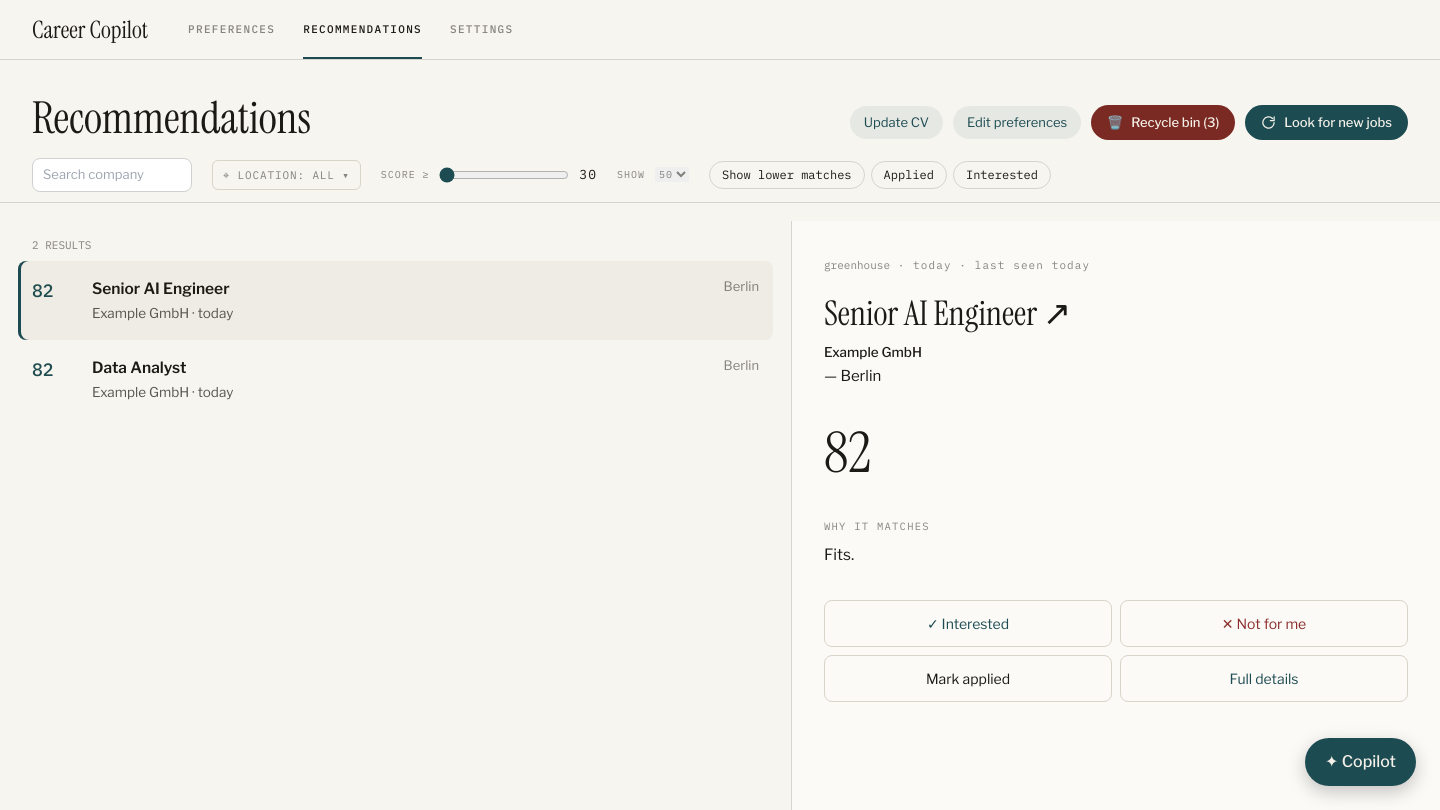
Test case: a dismissed row flying to the bin › removes the row at once under reduced motion
This screenshot has width=1440, height=810.
What coordinates should you click on to do the following:
click the button with aria-label "Not relevant: Senior AI Engineer"
I would click on:
 (1264, 623)
Its box is [1120,600,1408,647].
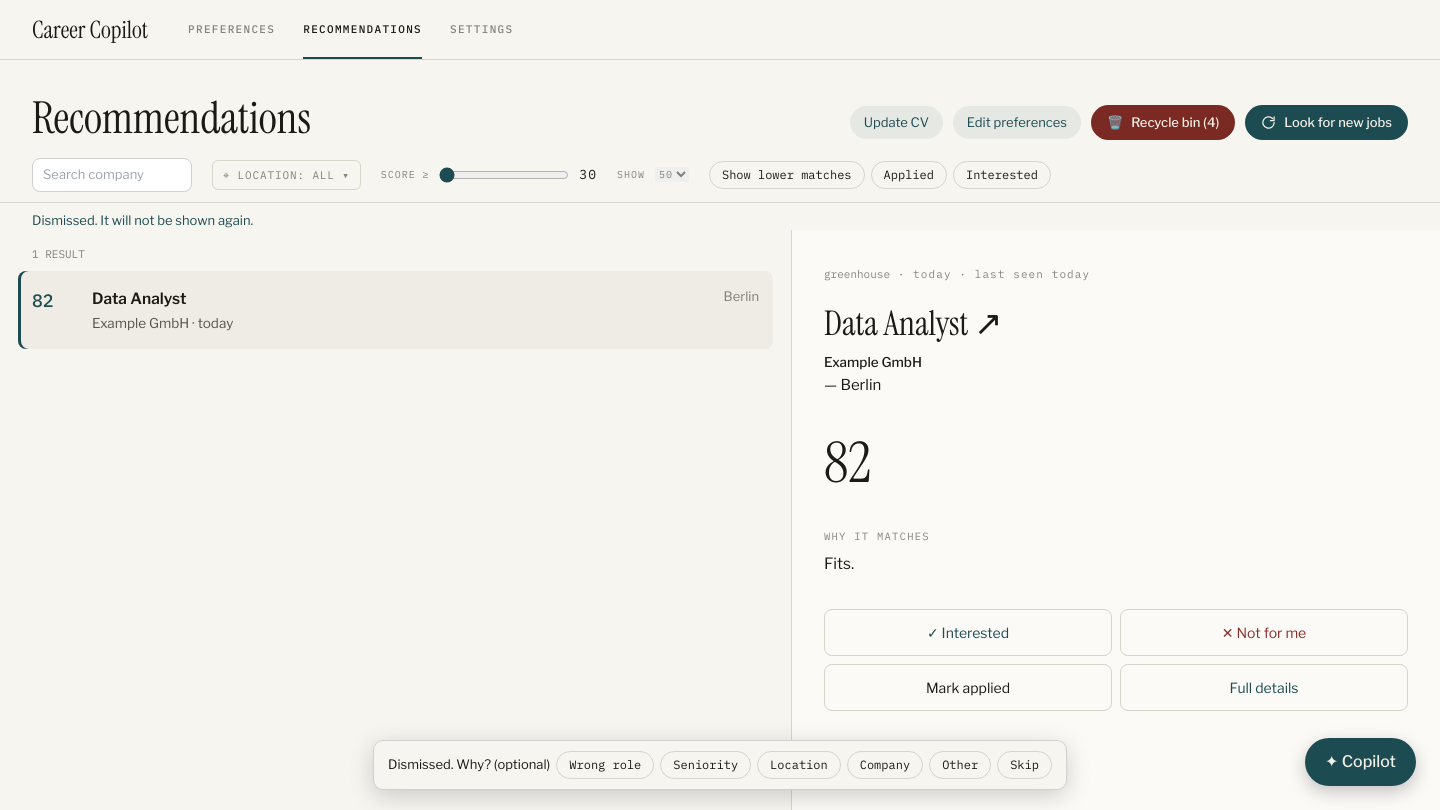
Expected: the button "Senior AI Engineer" is gone
